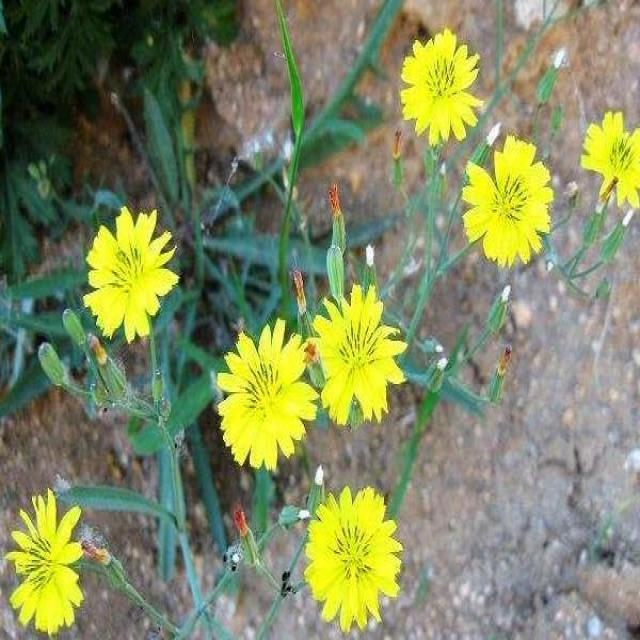organic waste: (216, 318, 326, 476), (295, 489, 406, 626), (77, 208, 182, 336), (314, 288, 408, 427), (9, 480, 94, 630), (469, 136, 556, 270), (397, 23, 483, 150), (580, 96, 637, 224)
